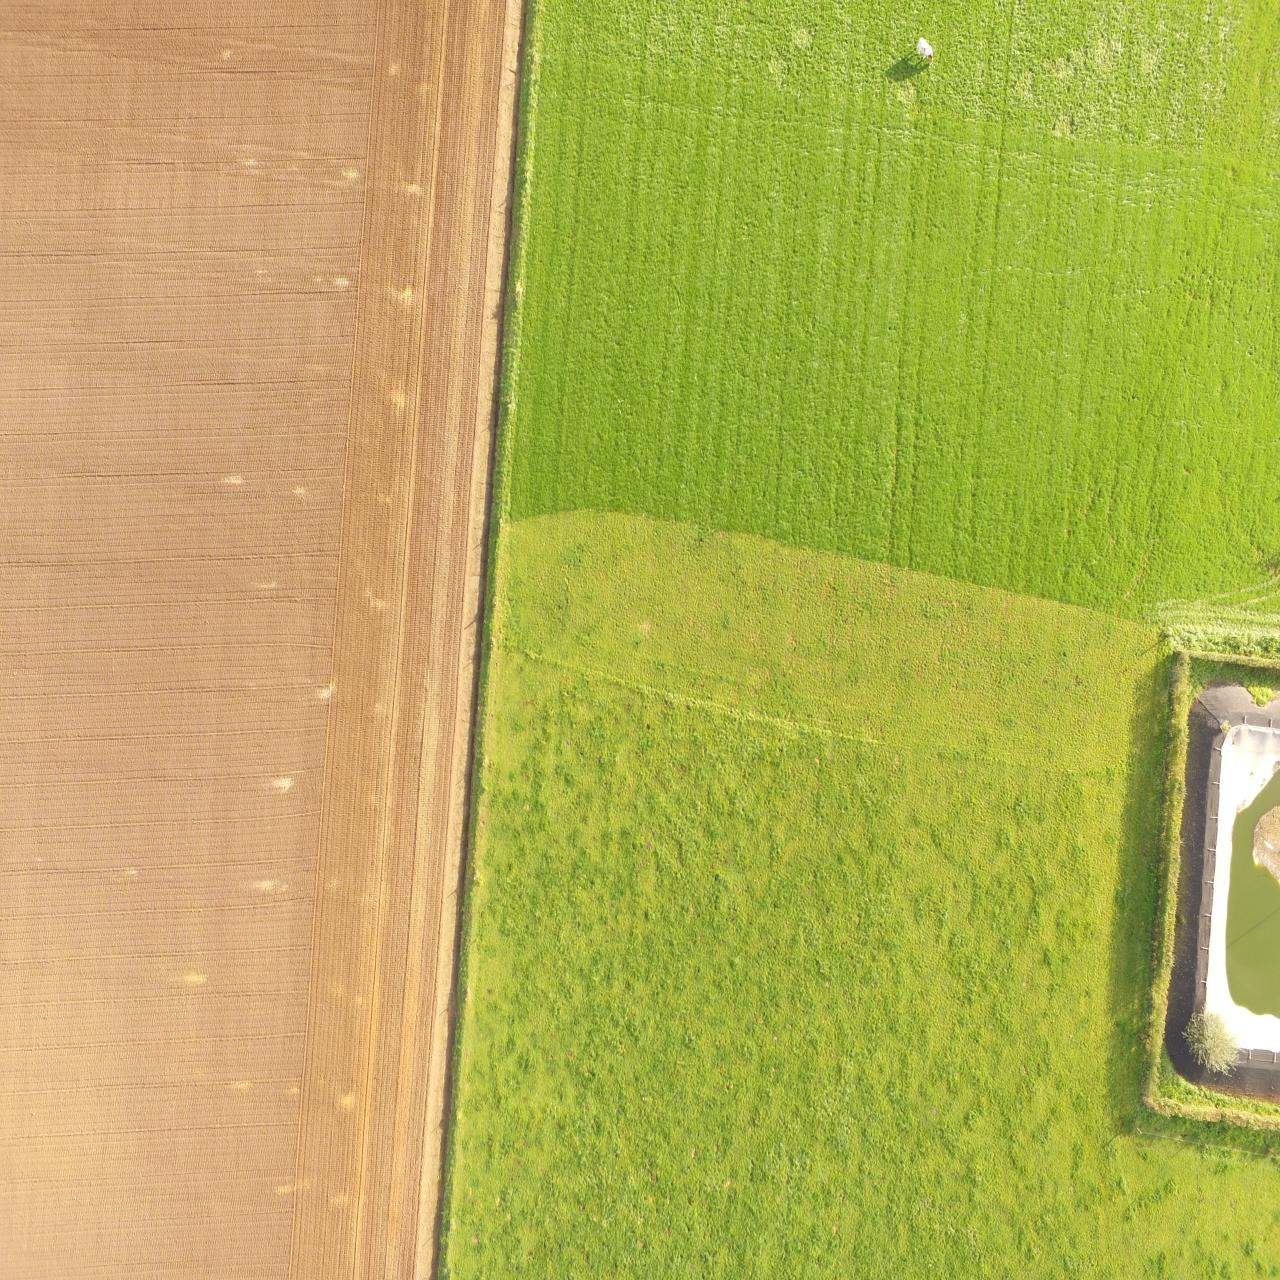cow: (915, 34, 937, 69)
